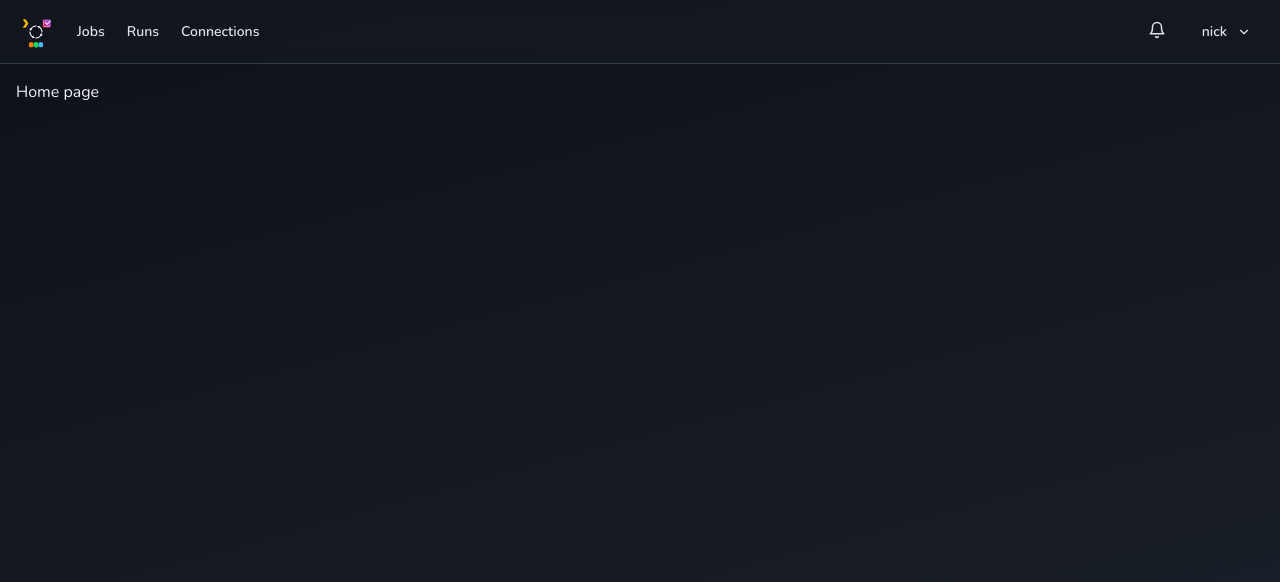
Scenario: account menu links to the GitHub repo near version
Click the button with aria-label "Account menu": (1226, 32) x1=1189 y1=10 x2=1264 y2=54
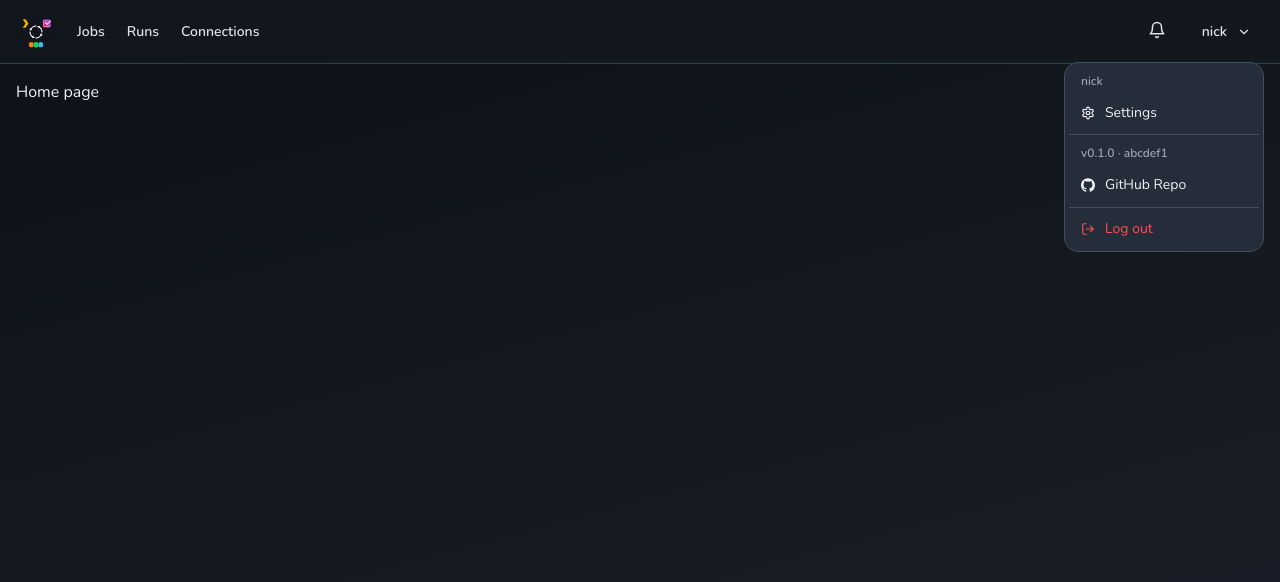
Expected: the text "v0.1.0 · abcdef1" is shown, x1=1081 y1=145 x2=1168 y2=161
